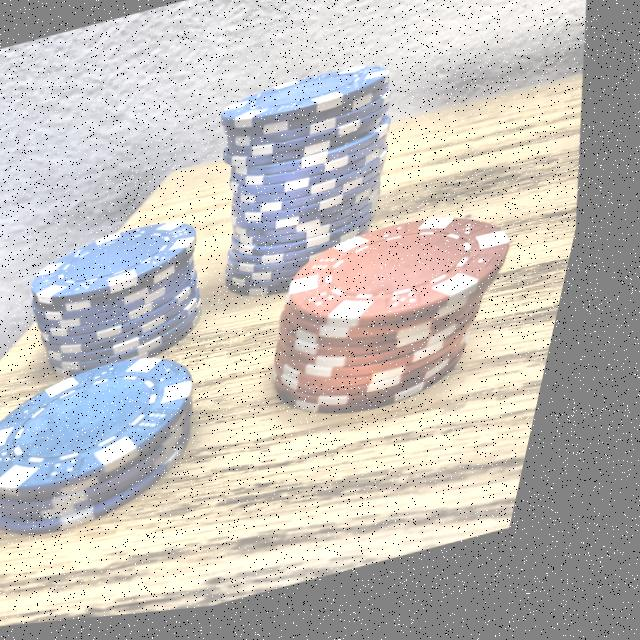Chip: (246, 179, 570, 468), (179, 33, 449, 321), (0, 311, 279, 587), (6, 191, 251, 412)
